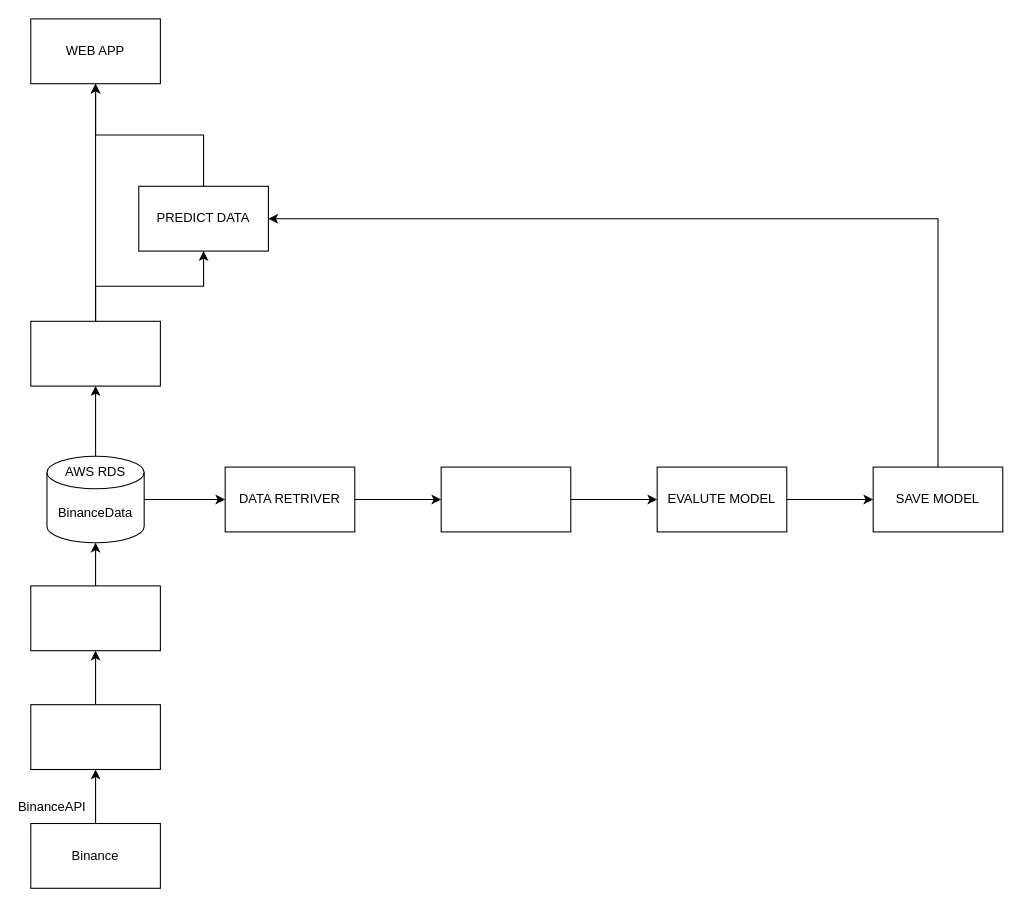
Some shapes in this 1022 by 907 pixel diagram are drawn without their labels. Each missing label, with the centre of its shape:
"DATA COLLECTOR" belongs at (95,737).
"DATA PRE_PROCESSOR" belongs at (95,618).
"GET LATEST DATA" belongs at (95,353).
"TRAIN MODEL" belongs at (505,499).
